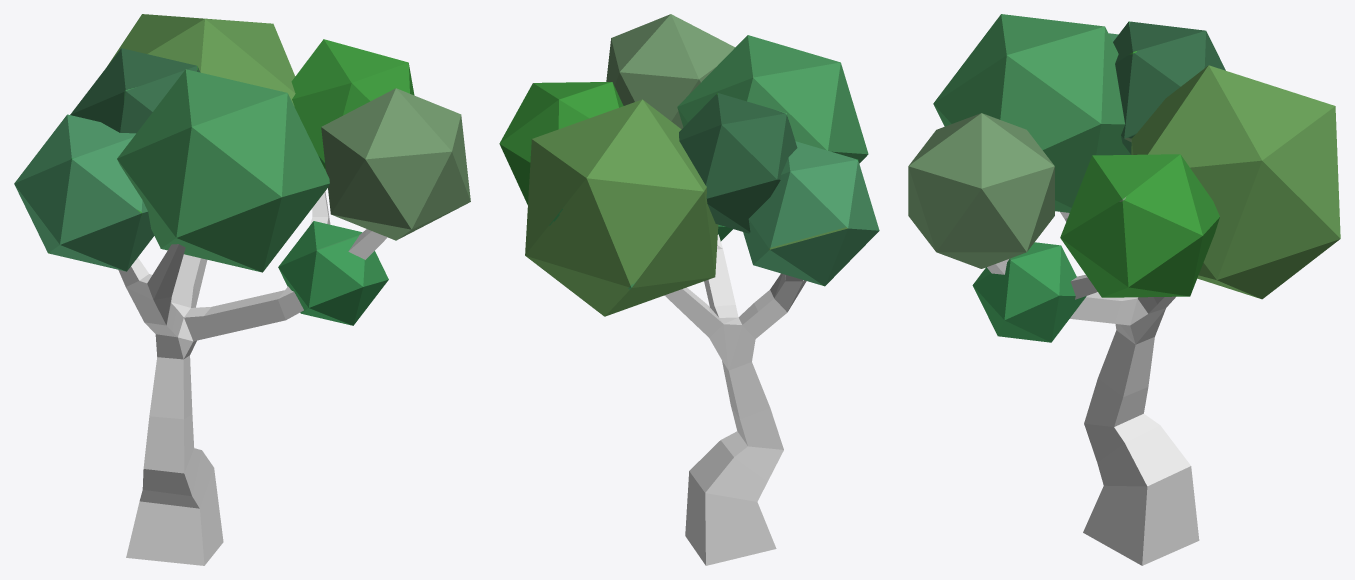
Rendered from Tree_5.fbx.
3 renders of one model, left to right at view 1: azimuth 30°, elevation 25°; view 2: azimuth 150°, elevation 25°; view 3: azimuth 270°, elevation 25°, orthographic. The views are drawn at different scales.
Parts seen in each view (by area): view 1: Icosphere.012, Cube.002, Icosphere.009, Icosphere.011, Icosphere.014, Icosphere.015, Icosphere.010, Icosphere.013; view 2: Icosphere.014, Cube.002, Icosphere.011, Icosphere.012, Icosphere.013, Icosphere.009, Icosphere.010; view 3: Icosphere.014, Cube.002, Icosphere.012, Icosphere.010, Icosphere.009, Icosphere.015, Icosphere.013.
Boxes of the visible parts, x1,y1,x2,y2 form: Icosphere.012: [117, 69, 329, 272]; Cube.002: [118, 191, 387, 565]; Icosphere.009: [321, 88, 470, 240]; Icosphere.011: [14, 114, 154, 271]; Icosphere.014: [108, 14, 295, 106]; Icosphere.015: [278, 221, 388, 325]; Icosphere.010: [291, 39, 414, 170]; Icosphere.013: [70, 48, 200, 133]; Icosphere.014: [525, 99, 718, 316]; Cube.002: [664, 234, 806, 565]; Icosphere.011: [743, 141, 879, 286]; Icosphere.012: [677, 35, 868, 163]; Icosphere.013: [679, 93, 797, 233]; Icosphere.009: [606, 14, 734, 129]; Icosphere.010: [499, 82, 623, 204]; Icosphere.014: [1131, 65, 1340, 299]; Cube.002: [987, 212, 1199, 565]; Icosphere.012: [933, 14, 1130, 212]; Icosphere.010: [1060, 154, 1219, 297]; Icosphere.009: [908, 113, 1054, 268]; Icosphere.015: [972, 242, 1086, 342]; Icosphere.013: [1113, 21, 1225, 154].
Size of the model in its own units: 467 by 579 by 444.
2 materials, 1 textured.
